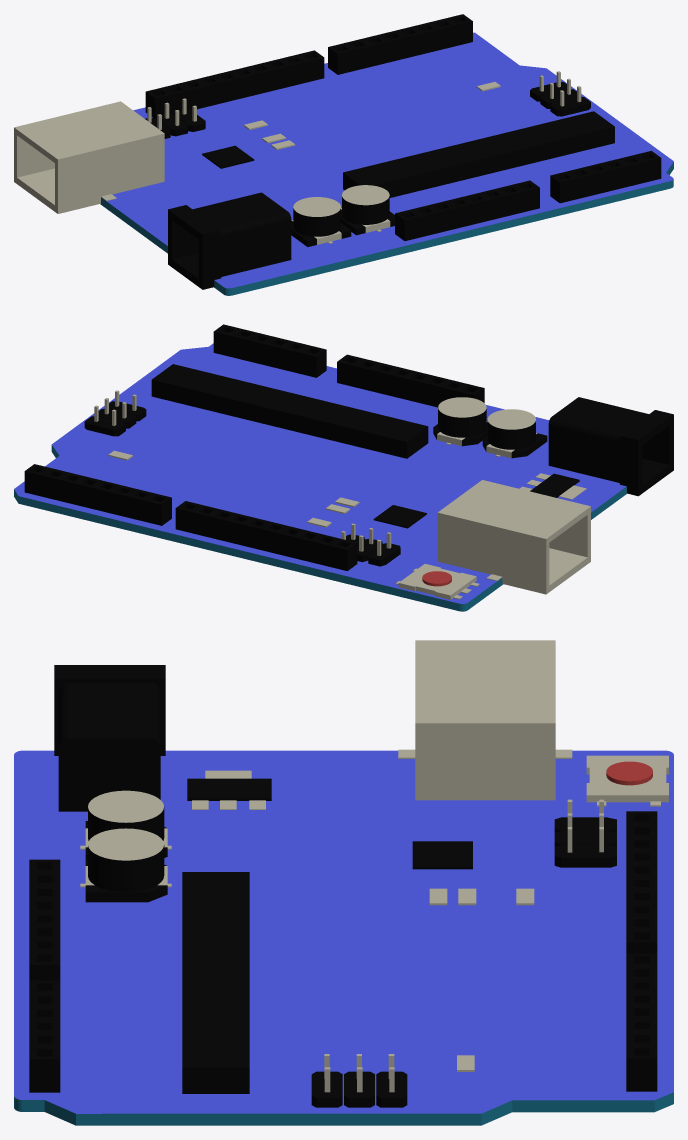
File: UNO.fbx
The picture shows the model from 3 angles, top to bottom: view 1: azimuth 30°, elevation 25°; view 2: azimuth 150°, elevation 25°; view 3: azimuth 270°, elevation 25°; orthographic projection. The views are drawn at different scales.
Visible parts, largest first — view 1: Cube; view 2: Cube; view 3: Cube.
Boxes of the visible parts, <box> form: Cube: <box>14,14,673,295</box>; Cube: <box>14,324,673,611</box>; Cube: <box>14,640,673,1125</box>.
Bounding box in the file's own units: 276 × 28.85 × 194.
